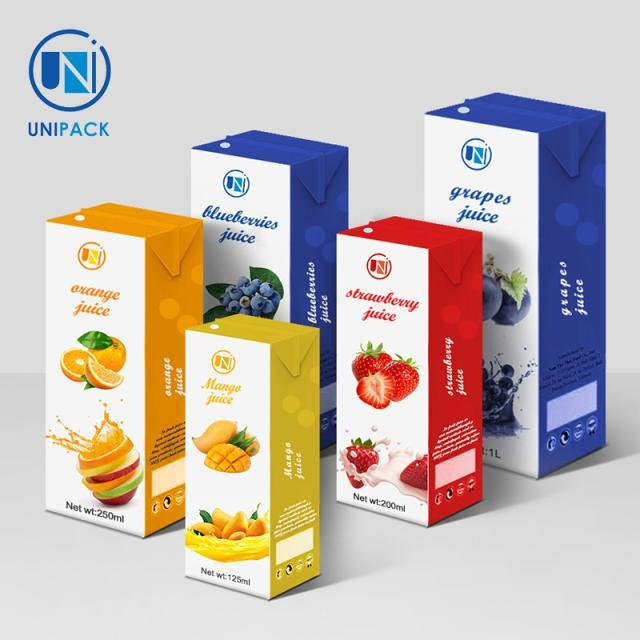Tetra: (411, 75, 617, 475), (179, 124, 367, 446), (43, 186, 204, 544), (328, 210, 494, 528), (174, 307, 326, 616)
